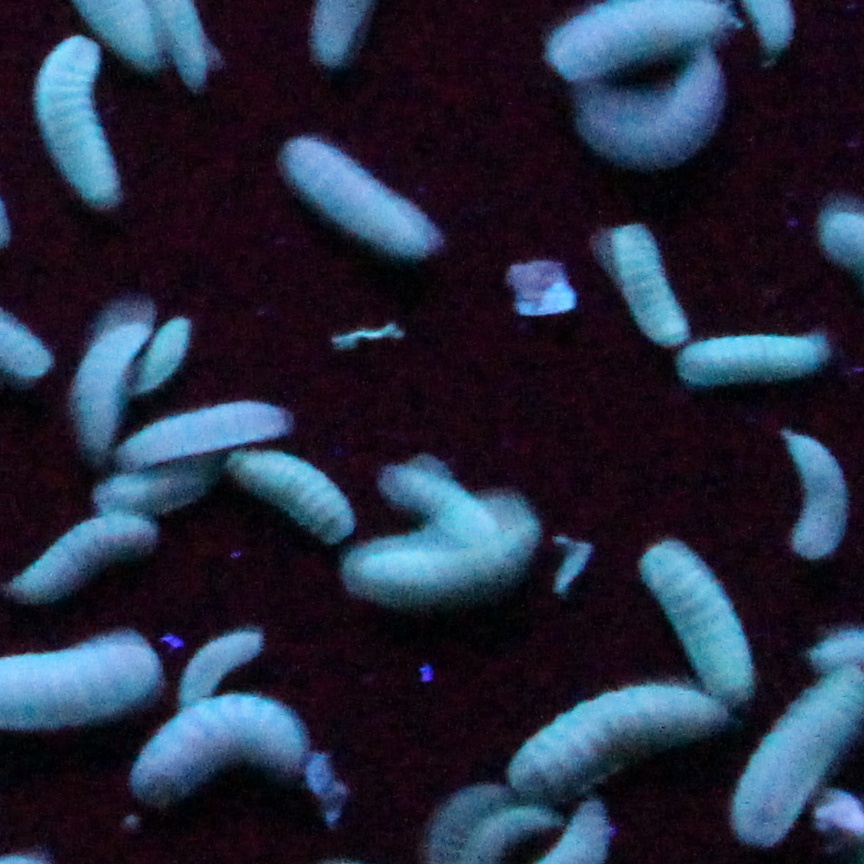larve: (500, 686, 742, 782), (730, 675, 864, 842), (121, 688, 305, 802), (634, 532, 756, 702), (281, 134, 439, 257), (346, 496, 524, 591), (235, 429, 363, 544), (13, 500, 157, 589), (41, 36, 108, 206), (534, 8, 745, 57), (110, 402, 276, 462), (604, 220, 685, 342), (547, 82, 721, 138), (74, 319, 146, 449), (396, 456, 490, 553), (784, 428, 848, 556), (164, 632, 259, 712), (681, 325, 822, 374), (103, 456, 220, 511), (132, 307, 197, 393)
